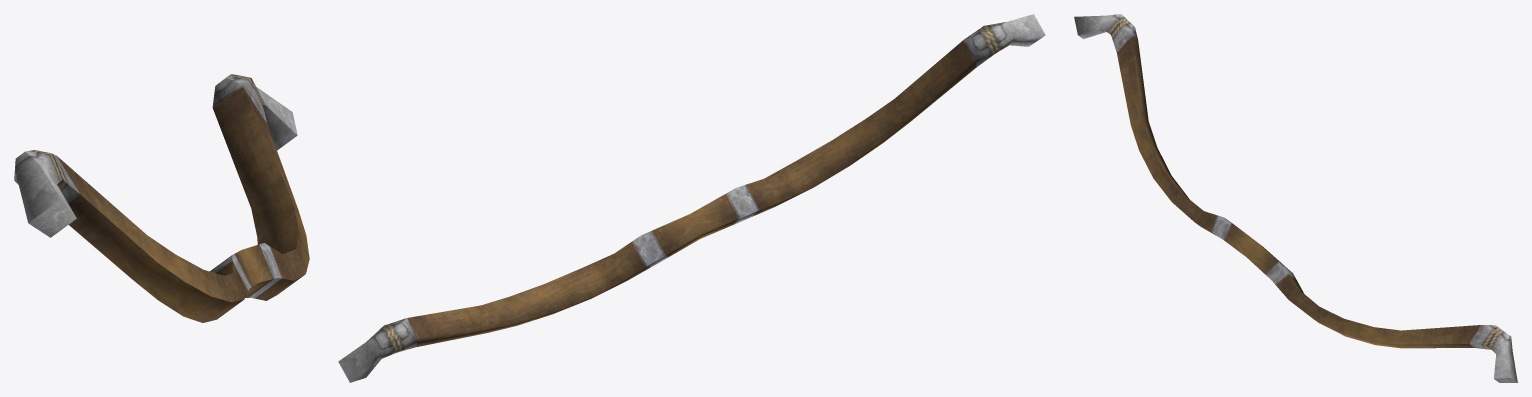
The model's file is rider-bow-slice-base.glb.
3 renders of one model, left to right at view 1: azimuth 30°, elevation 25°; view 2: azimuth 150°, elevation 25°; view 3: azimuth 270°, elevation 25°, orthographic. The views are drawn at different scales.
Size of the model in its own units: 0.9516 by 0.5668 by 1.05.
Materials: 1 (1 with a texture image).
